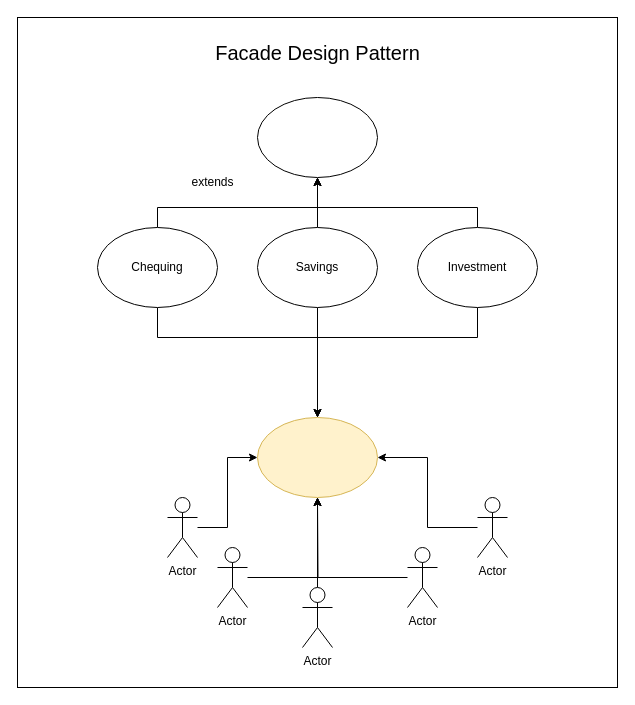
This 635x705 diagram has some shape labels left out. Each missing label, with the box of its shape:
Account (Abstract Class): (256, 96, 378, 178)
BankService (Facade Design): (256, 416, 378, 498)
